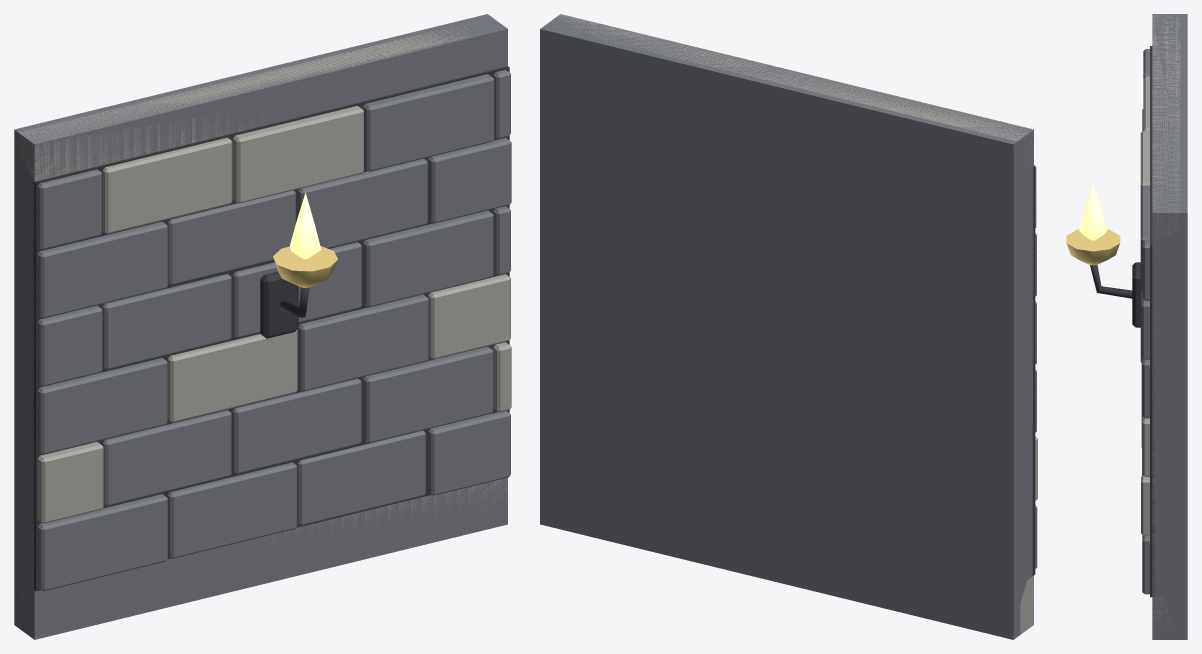
The model's file is wall_cr_sconce.glb.
3 renders of one model, left to right at view 1: azimuth 30°, elevation 25°; view 2: azimuth 150°, elevation 25°; view 3: azimuth 270°, elevation 25°, orthographic. The views are drawn at different scales.
Visible parts, largest first — view 1: wall_cr_sconce; view 2: wall_cr_sconce; view 3: wall_cr_sconce.
Part boxes in pixels (x1,y1,x2,y2): wall_cr_sconce: (14, 14, 511, 639); wall_cr_sconce: (540, 14, 1037, 639); wall_cr_sconce: (1066, 14, 1187, 639).
Bounding box in the file's own units: 4 × 4 × 1.03.
